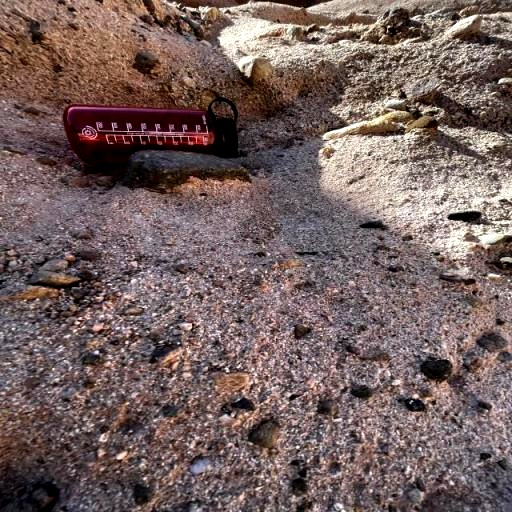bottle: (58, 98, 245, 176)
